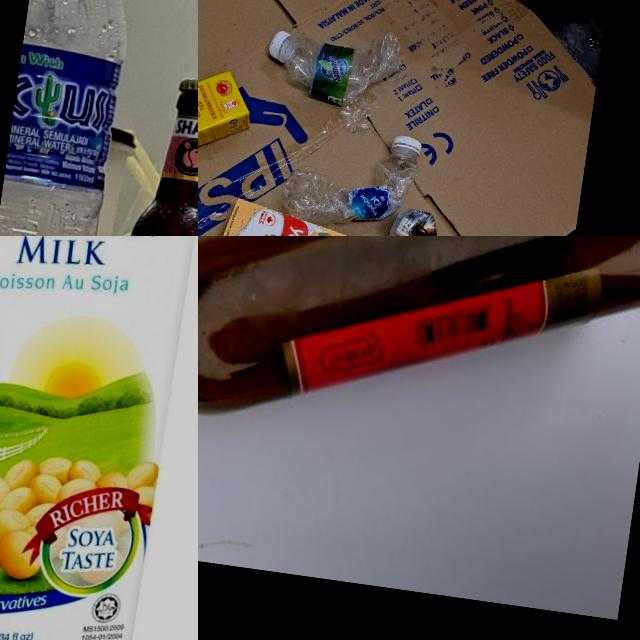caixinha: (0, 236, 198, 640), (198, 56, 256, 183), (215, 196, 359, 236)
garrafa de vidro: (198, 236, 640, 512), (110, 70, 198, 236)
garrafa plástica: (0, 0, 143, 236), (278, 135, 420, 236), (282, 18, 406, 114)
lata: (380, 206, 486, 236)
papelão: (198, 0, 613, 236)
tampa plástica: (266, 30, 290, 64), (391, 135, 423, 154)
